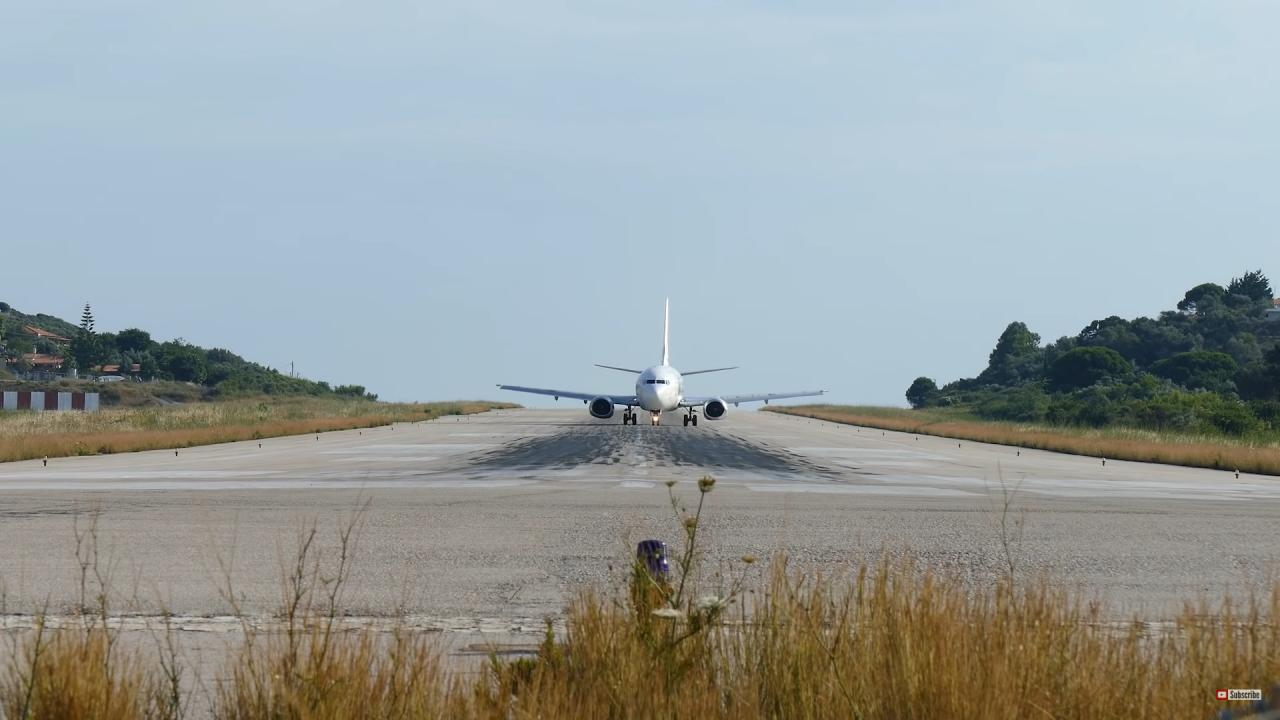Airplane: (485, 285, 842, 435)
